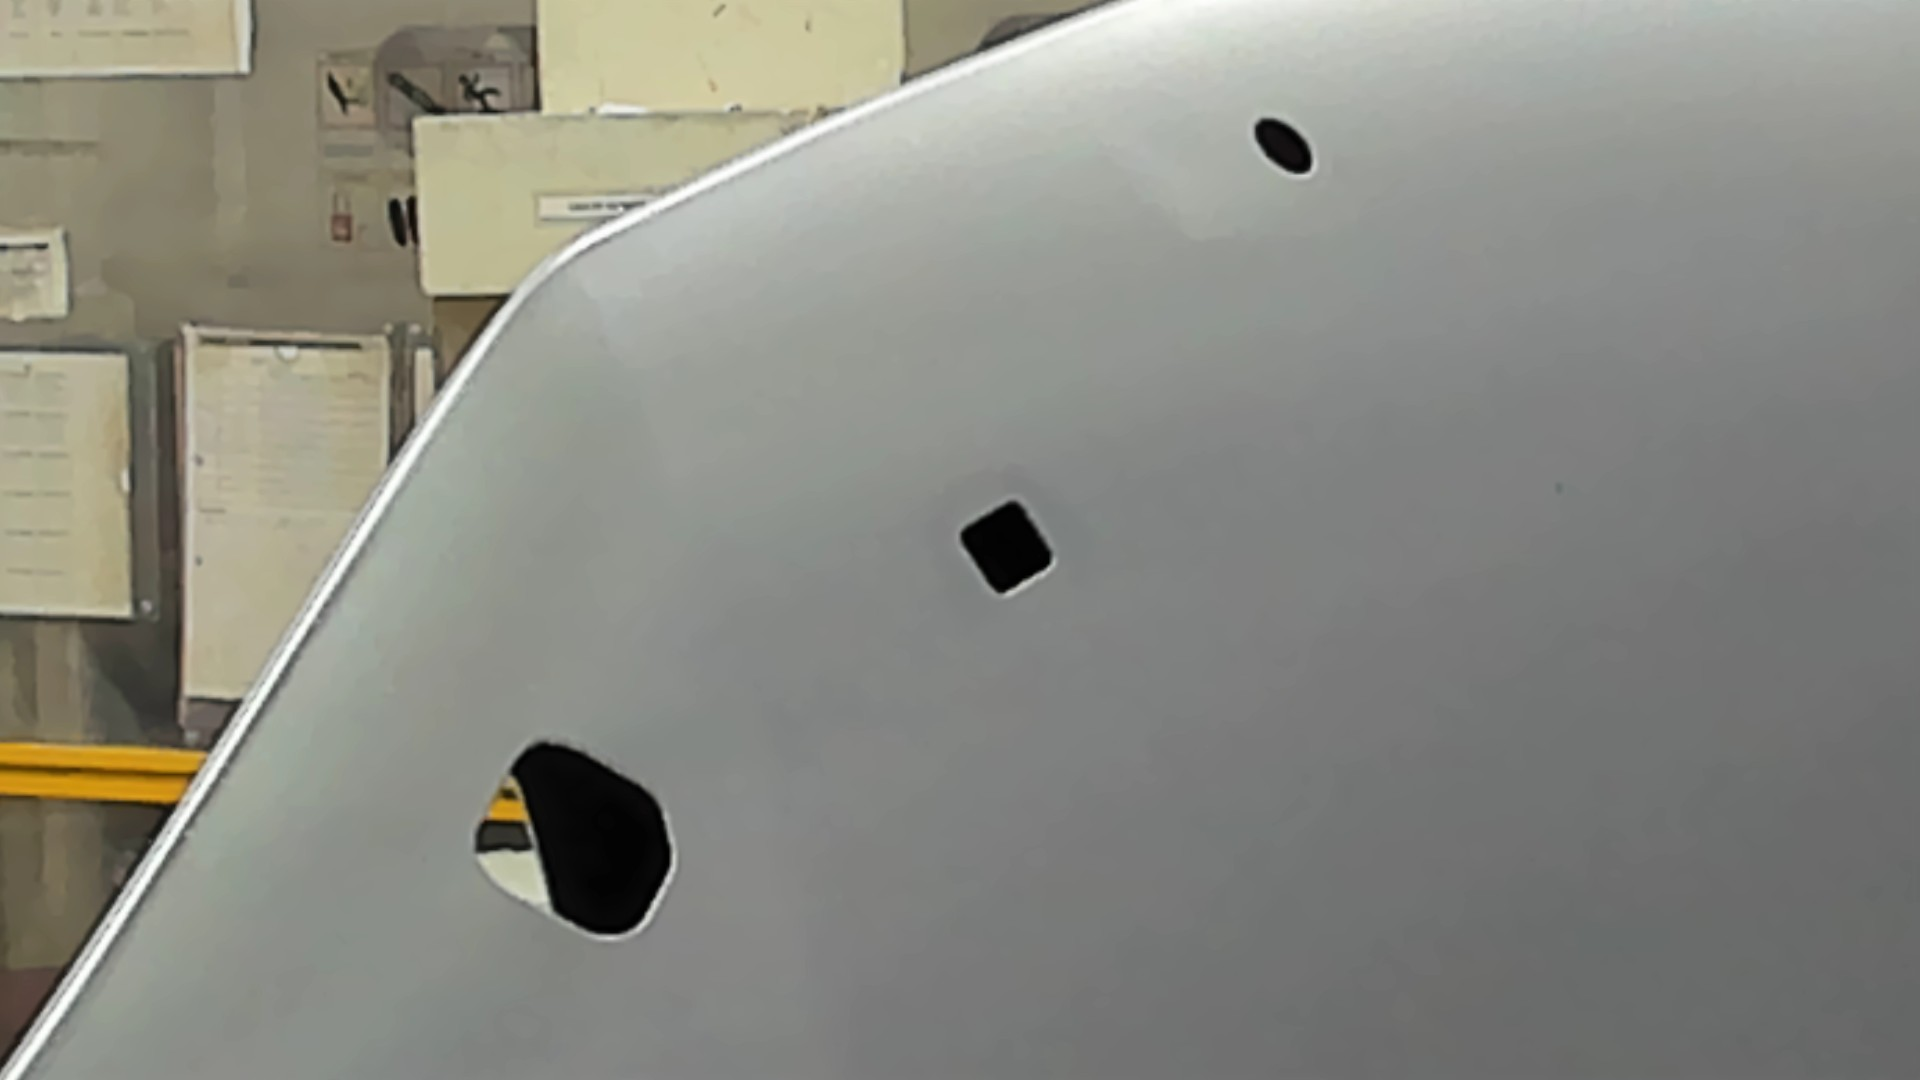chico: (1251, 113, 1317, 179)
grande: (472, 737, 682, 942)
mediano: (953, 496, 1059, 600)
